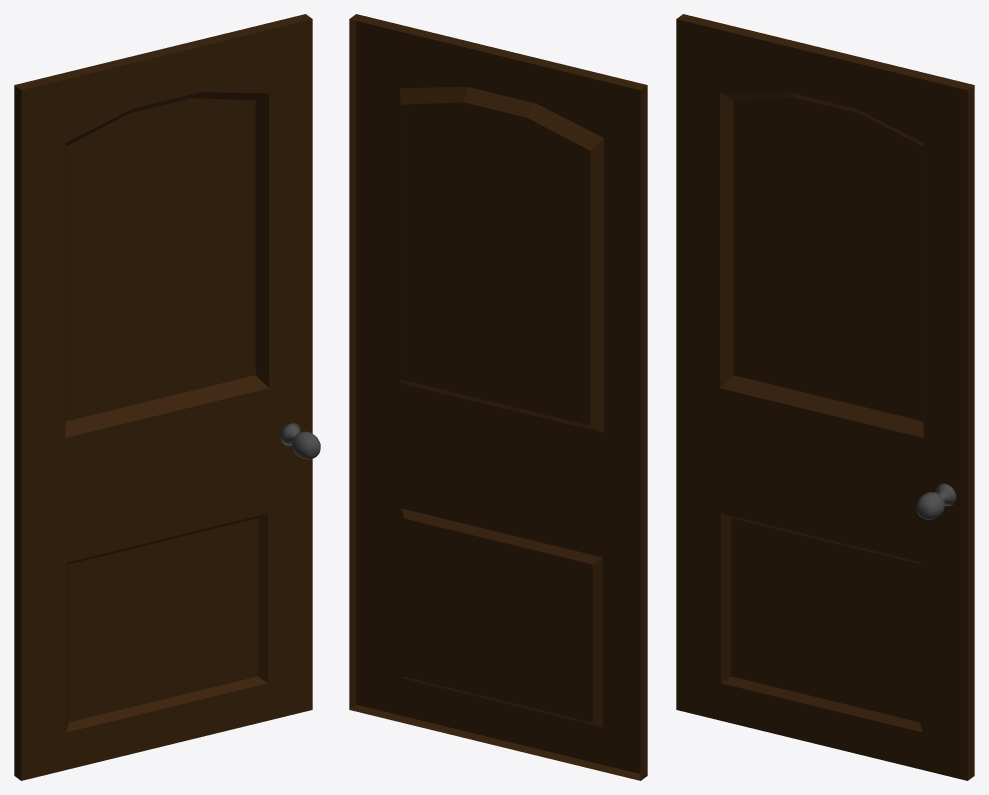
File: CPI441_Fur_Door1_V2_O1.fbx
3 renders of one model, left to right at view 1: azimuth 30°, elevation 25°; view 2: azimuth 150°, elevation 25°; view 3: azimuth 330°, elevation 25°, orthographic.
Parts seen in each view (by area): view 1: Circle; view 2: Circle; view 3: Circle.
Part boxes in pixels (bbox=[...]): Circle: bbox=[14, 14, 320, 780]; Circle: bbox=[349, 14, 647, 780]; Circle: bbox=[676, 14, 974, 780].
Size of the model in its own units: 440 by 997 by 79.26.
